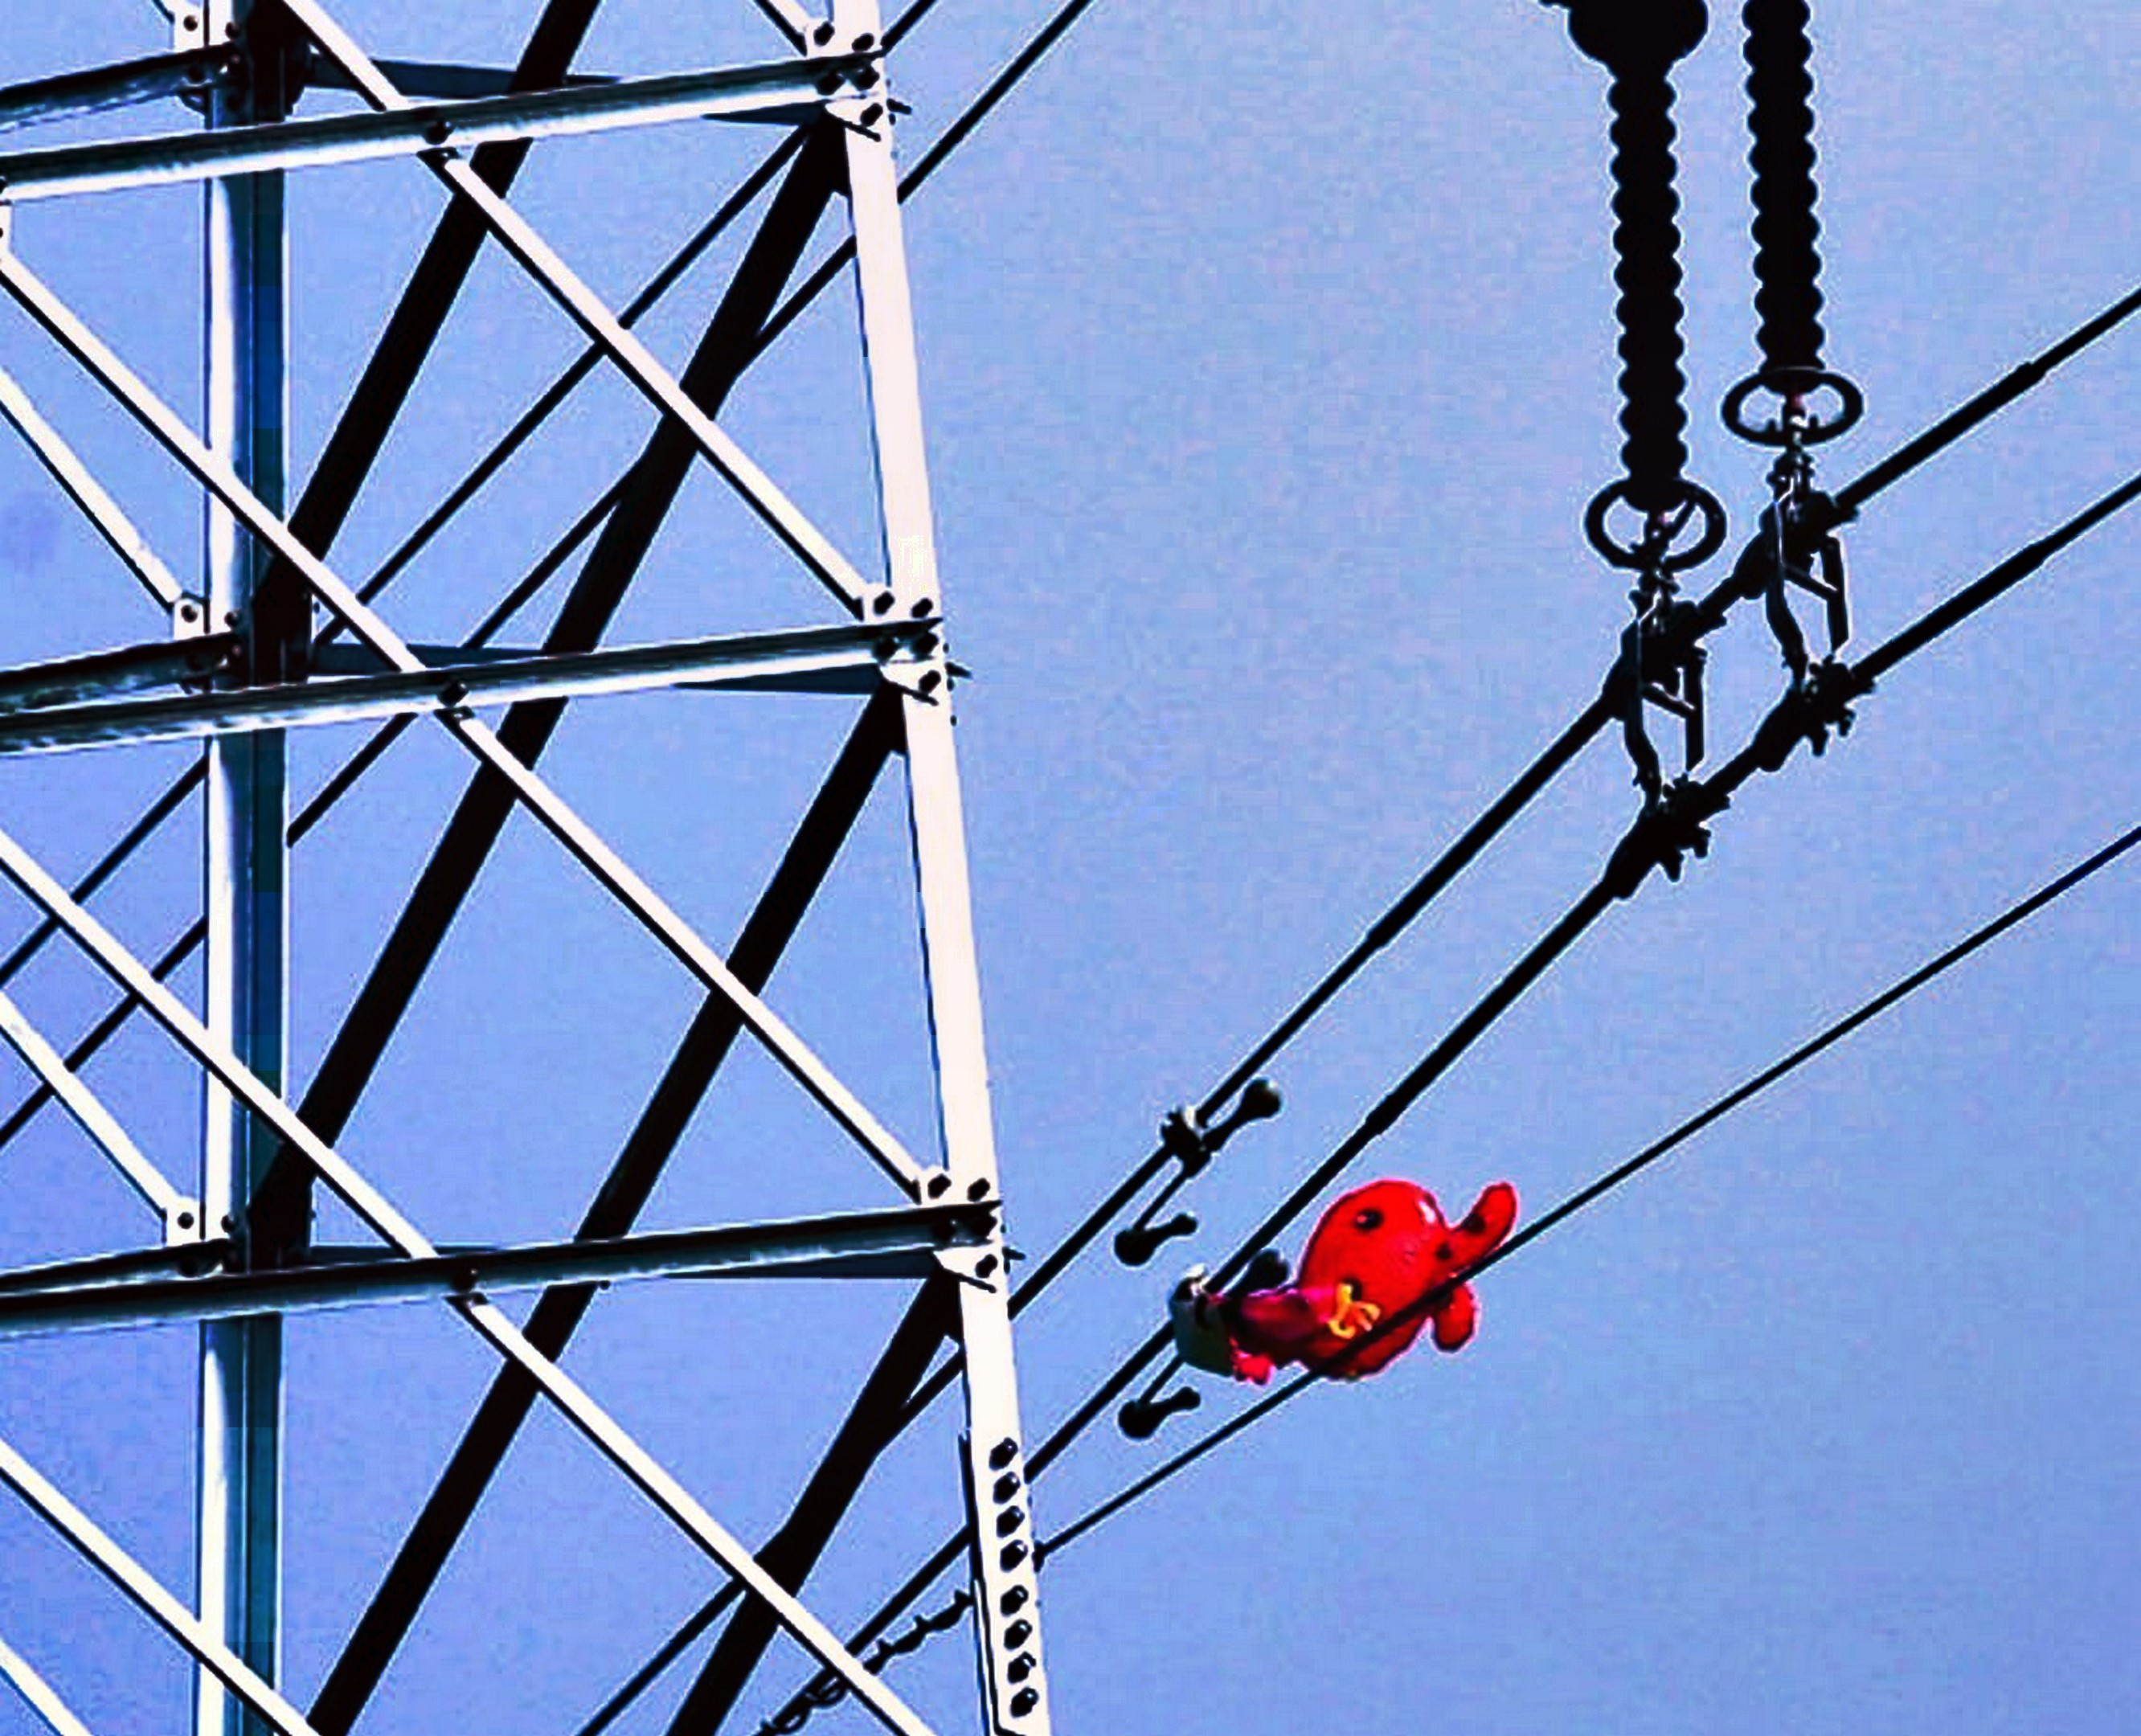wire foreign body: (1158, 1157, 1544, 1403)
